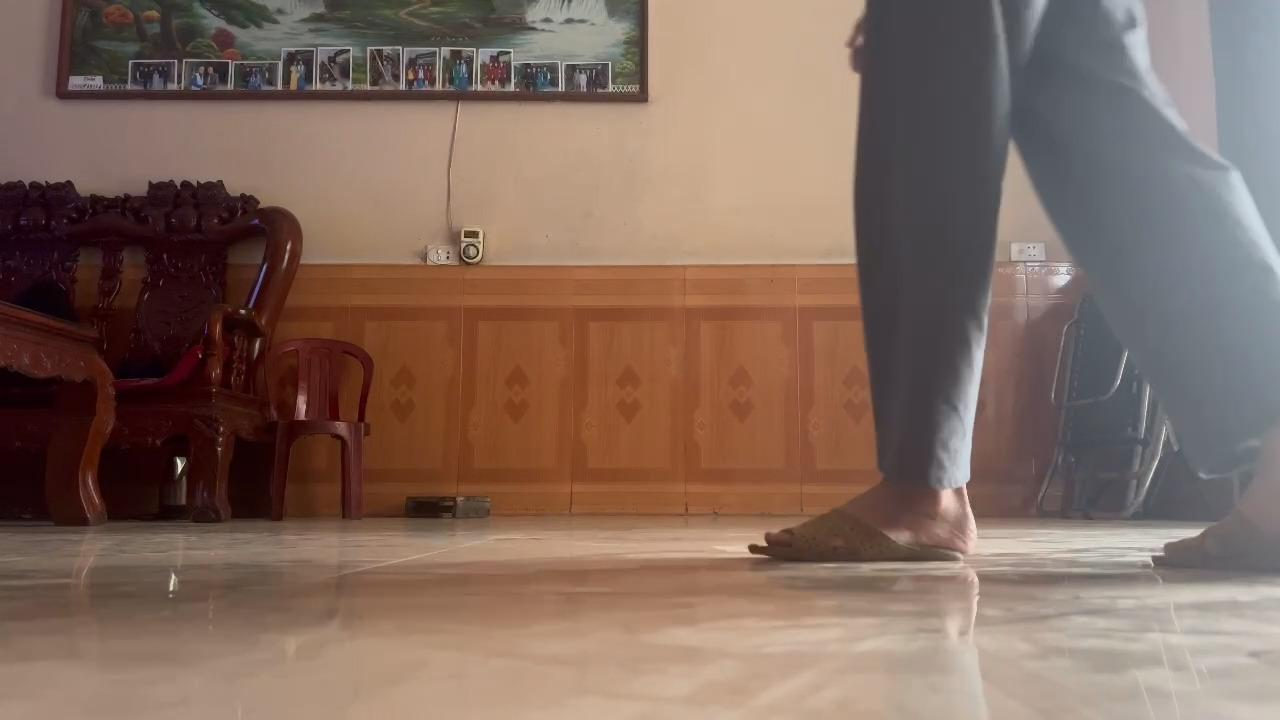no-boot: (737, 489, 980, 574), (1140, 519, 1280, 581)
